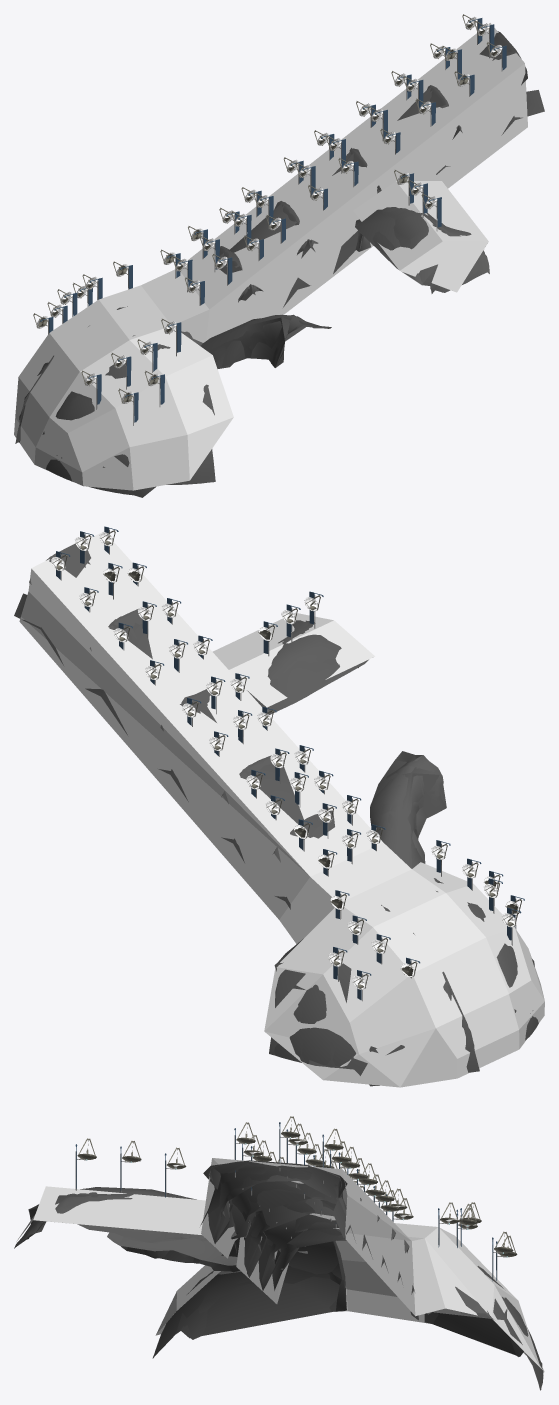
The model's file is Overlay_2nd_Gal_Bottom.glb.
The picture shows the model from 3 angles, top to bottom: view 1: azimuth 30°, elevation 25°; view 2: azimuth 150°, elevation 25°; view 3: azimuth 270°, elevation 25°; orthographic projection. The views are drawn at different scales.
Visible parts, largest first — view 1: 2nd_Gal_Bottom-colonly.001, Overlay_2ndGal_Bottom, Overlay_2ndGal_Bottom.002, LightTubes_2GalLower_LEDs, LightTubes_2ndGalLower_Mirrors, Overlay_2ndGal_Bottom.001, LightTubes_2ndGalLower_Mirrors.002, LightTubes_2ndGalLower_Mirrors.001, LightTubes_2ndGal_Bottom_Bases, LightTubes_2GalLower_LEDs.001; view 2: 2nd_Gal_Bottom-colonly.001, Overlay_2ndGal_Bottom, Overlay_2ndGal_Bottom.002, Overlay_2ndGal_Bottom.001, LightTubes_2ndGalLower_Mirrors, LightTubes_2GalLower_LEDs, LightTubes_2ndGalLower_Mirrors.001, LightTubes_2ndGalLower_Mirrors.002, LightTubes_2ndGal_Bottom_Bases; view 3: 2nd_Gal_Bottom-colonly.001, Overlay_2ndGal_Bottom.002, Overlay_2ndGal_Bottom, Overlay_2ndGal_Bottom.001, LightTubes_2ndGalLower_Mirrors, LightTubes_2GalLower_LEDs, LightTubes_2ndGalLower_Mirrors.001, LightTubes_2ndGal_Bottom_Bases, LightTubes_2ndGalLower_Mirrors.002.
Boxes of the visible parts, x1,y1,x2,y2 form: 2nd_Gal_Bottom-colonly.001: (14,23,527,490); Overlay_2ndGal_Bottom: (18,34,544,495); Overlay_2ndGal_Bottom.002: (15,31,527,497); LightTubes_2GalLower_LEDs: (40,18,506,422); LightTubes_2ndGalLower_Mirrors: (33,14,502,403); Overlay_2ndGal_Bottom.001: (19,33,517,494); LightTubes_2ndGalLower_Mirrors.002: (38,17,501,402); LightTubes_2ndGalLower_Mirrors.001: (34,15,501,403); LightTubes_2ndGal_Bottom_Bases: (46,20,502,425); LightTubes_2GalLower_LEDs.001: (41,18,505,417); 2nd_Gal_Bottom-colonly.001: (19,531,544,1087); Overlay_2ndGal_Bottom: (14,538,537,1085); Overlay_2ndGal_Bottom.002: (29,550,534,1086); Overlay_2ndGal_Bottom.001: (49,543,538,1067); LightTubes_2ndGalLower_Mirrors: (51,530,521,989); LightTubes_2GalLower_LEDs: (56,526,524,1000); LightTubes_2ndGalLower_Mirrors.001: (51,532,520,989); LightTubes_2ndGalLower_Mirrors.002: (51,533,517,989); LightTubes_2ndGal_Bottom_Bases: (60,528,516,1000); 2nd_Gal_Bottom-colonly.001: (16,1158,544,1371); Overlay_2ndGal_Bottom.002: (18,1160,542,1389); Overlay_2ndGal_Bottom: (14,1161,543,1390); Overlay_2ndGal_Bottom.001: (22,1161,543,1389); LightTubes_2ndGalLower_Mirrors: (77,1116,517,1257); LightTubes_2GalLower_LEDs: (76,1122,496,1281); LightTubes_2ndGalLower_Mirrors.001: (78,1117,515,1257); LightTubes_2ndGal_Bottom_Bases: (76,1129,506,1279); LightTubes_2ndGalLower_Mirrors.002: (79,1132,515,1256).
Size of what is drawn, in the model's own units: 541 by 397 by 416.
